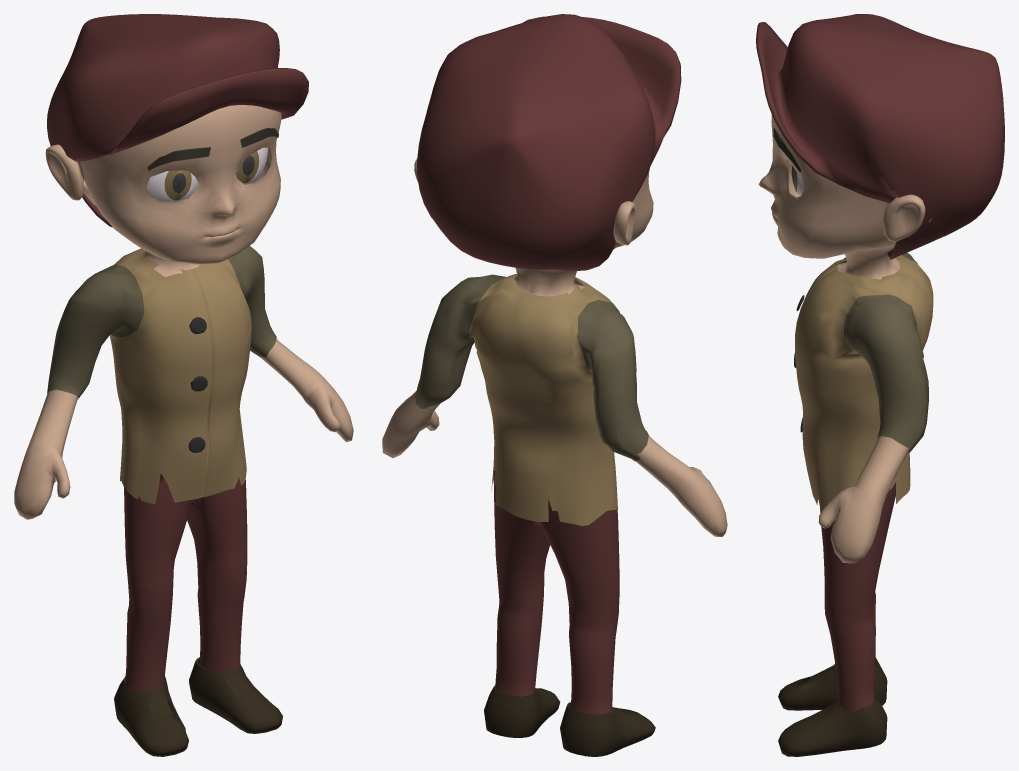
File: Teodore 3.6.fbx
3 views of the same model, side by side, from view 1: azimuth 30°, elevation 25°; view 2: azimuth 150°, elevation 25°; view 3: azimuth 270°, elevation 25° (orthographic).
Visible parts, largest first — view 1: TheodoreBody.003, Theodore_EyesL.005, Theodore_EyesL.004; view 2: TheodoreBody.003; view 3: TheodoreBody.003.
Part boxes in pixels (x1,y1,x2,y2): TheodoreBody.003: (14, 14, 353, 756); Theodore_EyesL.005: (146, 170, 199, 201); Theodore_EyesL.004: (234, 147, 268, 184); TheodoreBody.003: (382, 14, 727, 756); TheodoreBody.003: (756, 14, 1004, 756).
Size of the model in its own units: 79.14 by 157 by 50.55.
